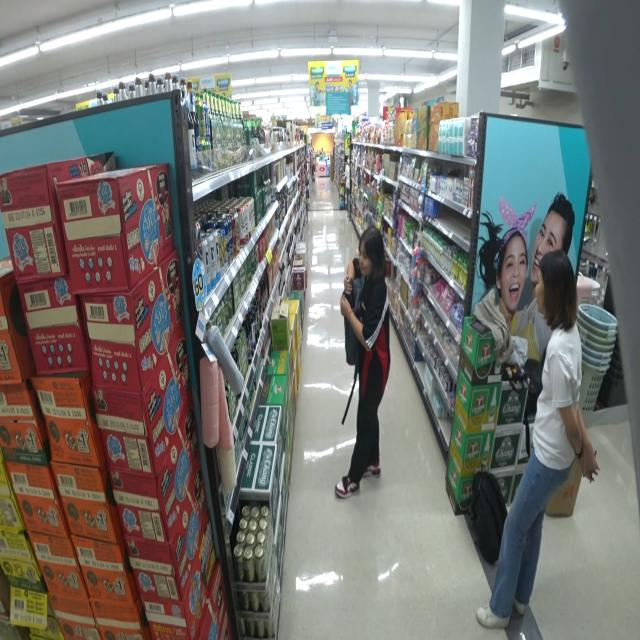shoplifting: (341, 220, 390, 504)
